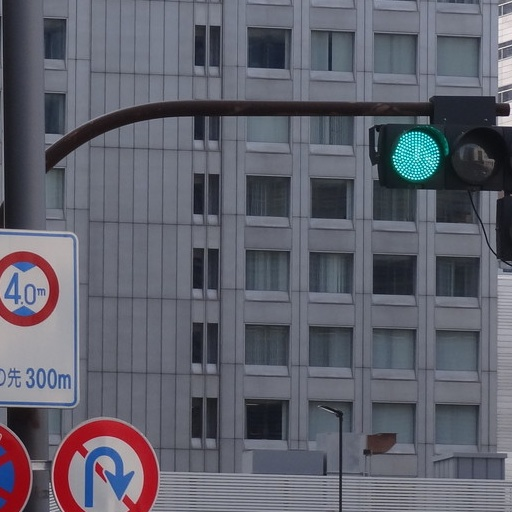Traffic_Signal_Blue: (367, 123, 504, 194)
